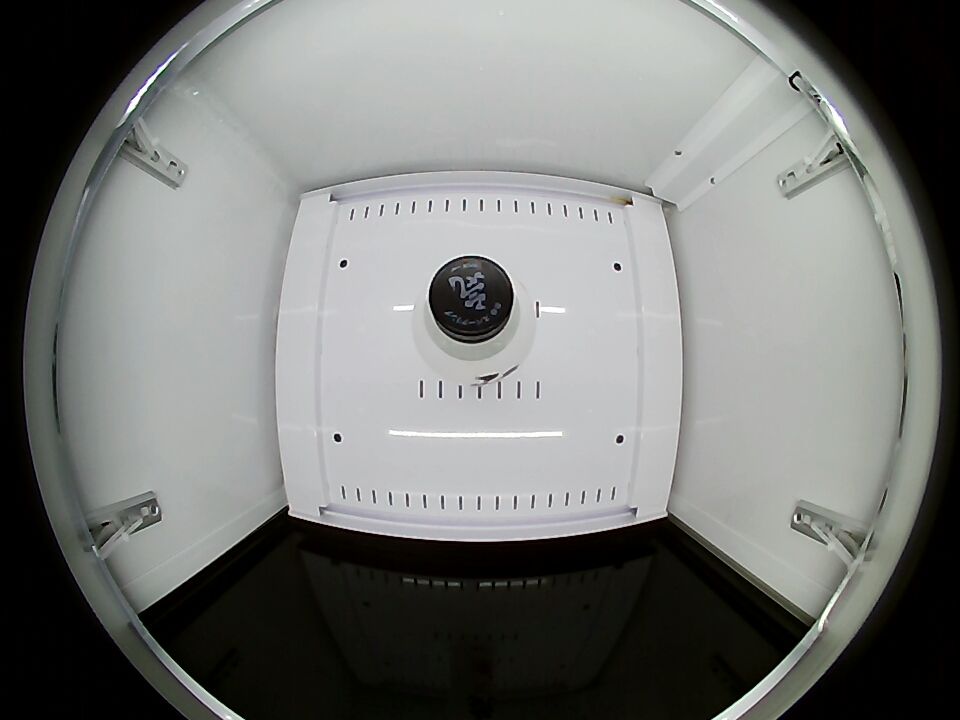yuanqishui: (409, 255, 537, 382)
